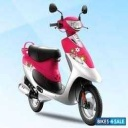bike: (20, 5, 106, 127)
